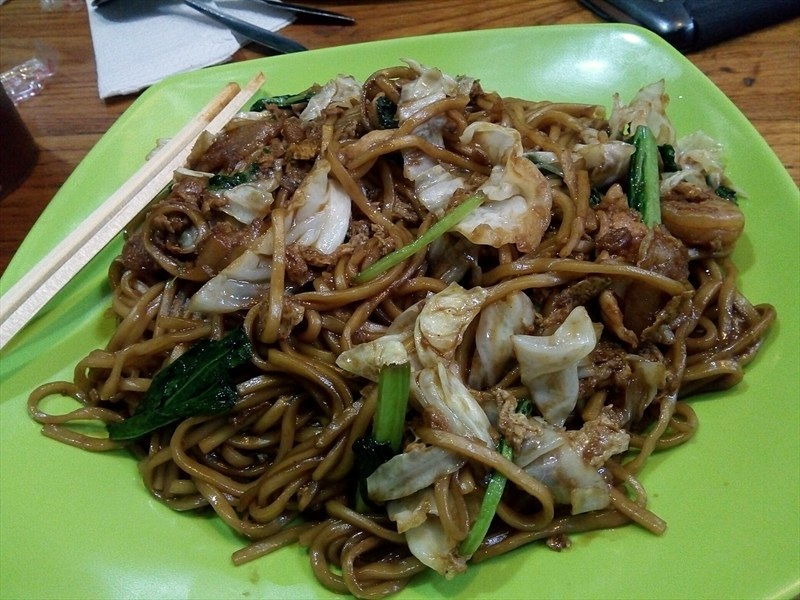Mie Goreng: (82, 14, 698, 531)
